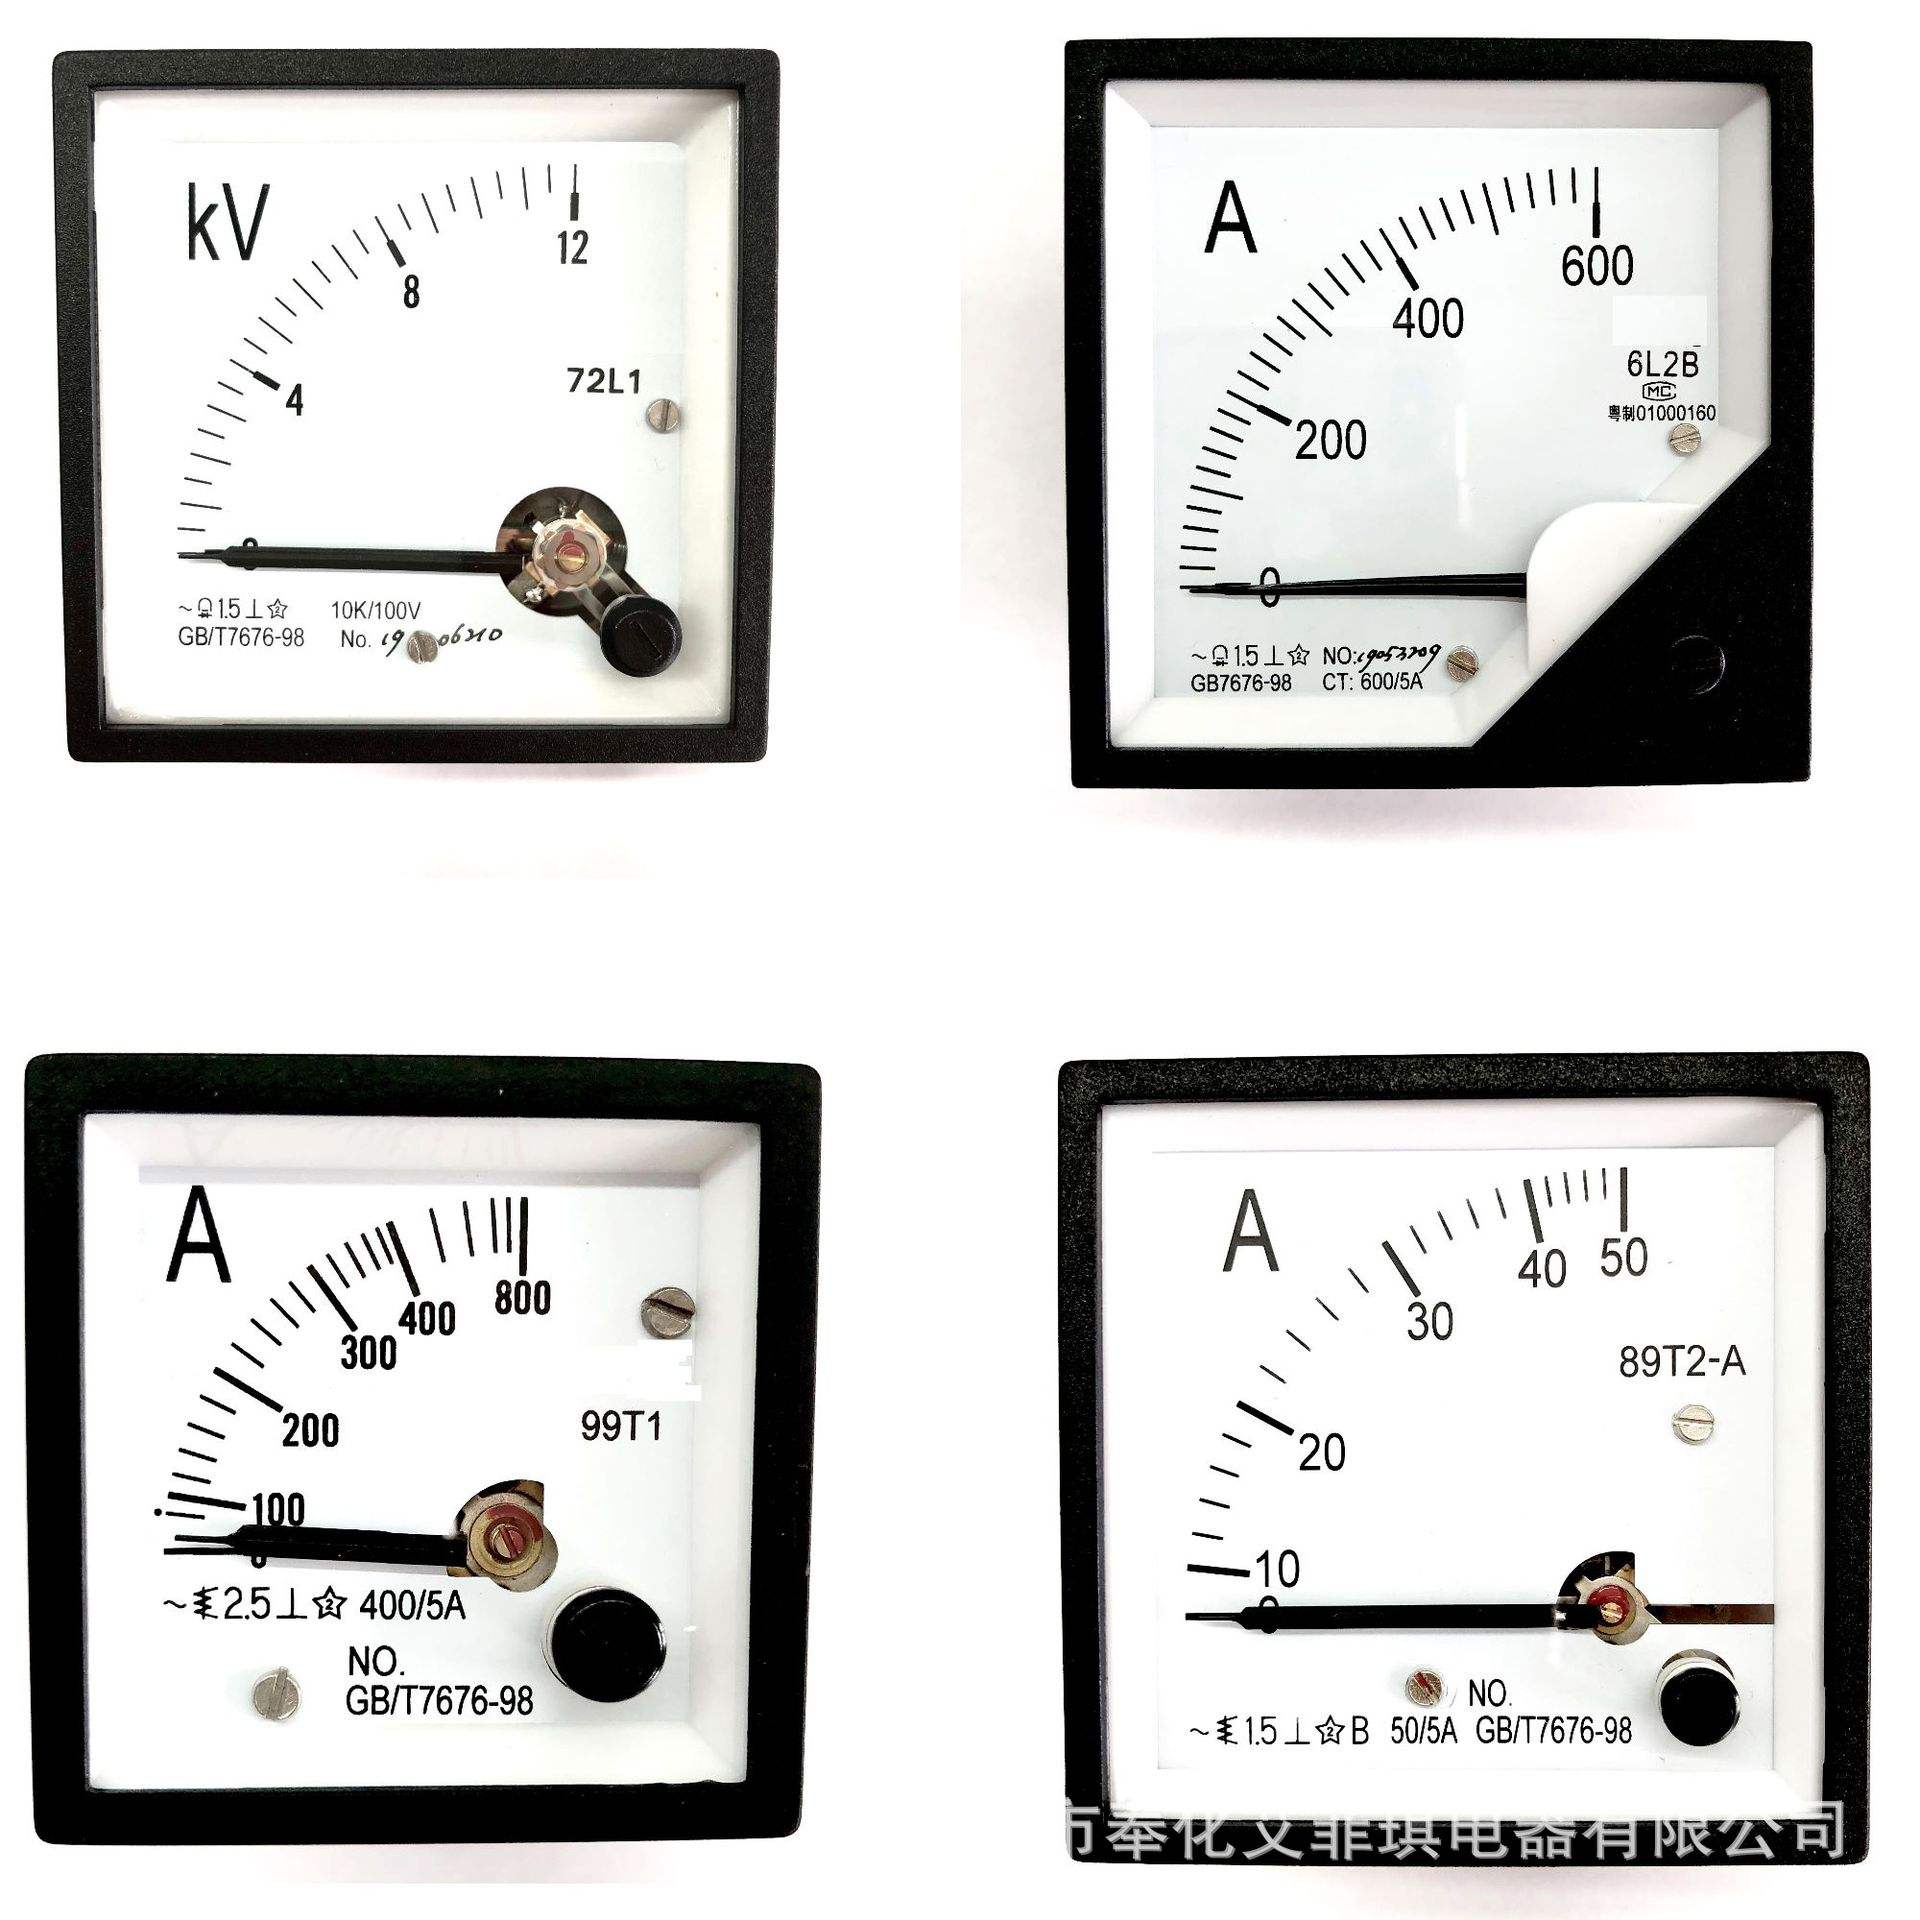pointer: (1094, 1094, 1827, 1806), (77, 1118, 760, 1811), (1101, 77, 1762, 744), (84, 77, 726, 721)
